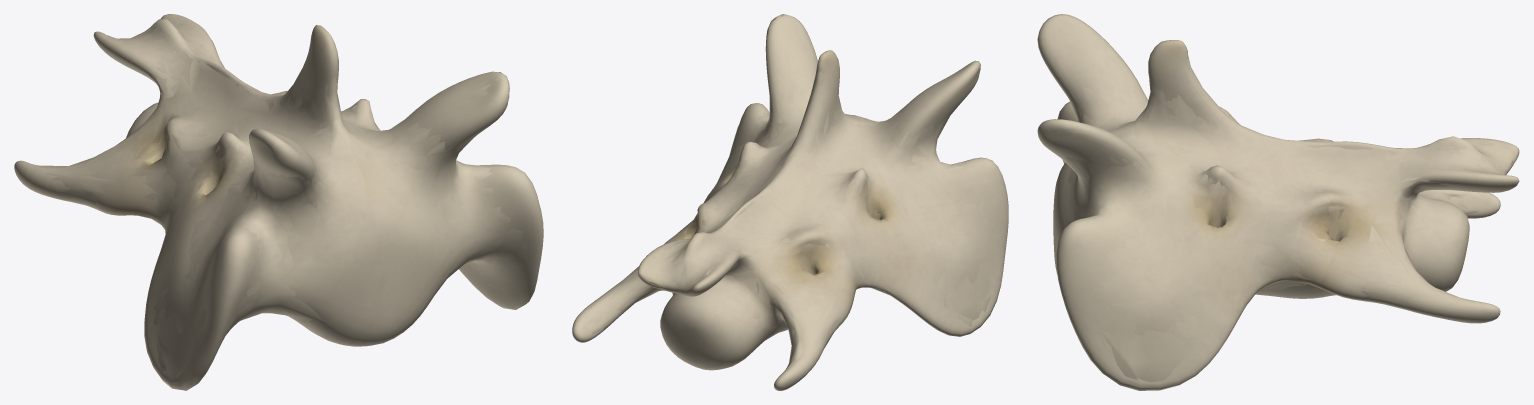
The model's file is Sacral Vertebrae.fbx.
The picture shows the model from 3 angles, left to right: view 1: azimuth 30°, elevation 25°; view 2: azimuth 150°, elevation 25°; view 3: azimuth 270°, elevation 25°; orthographic projection. The views are drawn at different scales.
Parts seen in each view (by area): view 1: Sacral Vertebrae high, Sacral Vertebrae low, Sacral Vertebrae; view 2: Sacral Vertebrae high, Sacral Vertebrae low, Sacral Vertebrae; view 3: Sacral Vertebrae high, Sacral Vertebrae low, Sacral Vertebrae.
Boxes of the visible parts, <box> form: Sacral Vertebrae high: <box>14,14,543,390</box>; Sacral Vertebrae low: <box>33,19,522,377</box>; Sacral Vertebrae: <box>44,17,528,372</box>; Sacral Vertebrae high: <box>572,14,1008,390</box>; Sacral Vertebrae low: <box>586,18,992,370</box>; Sacral Vertebrae: <box>584,26,1004,373</box>; Sacral Vertebrae high: <box>1037,14,1519,390</box>; Sacral Vertebrae low: <box>1065,58,1513,382</box>; Sacral Vertebrae: <box>1053,27,1514,359</box>.
Size of the model in its own units: 9.67 by 8.33 by 13.1.
